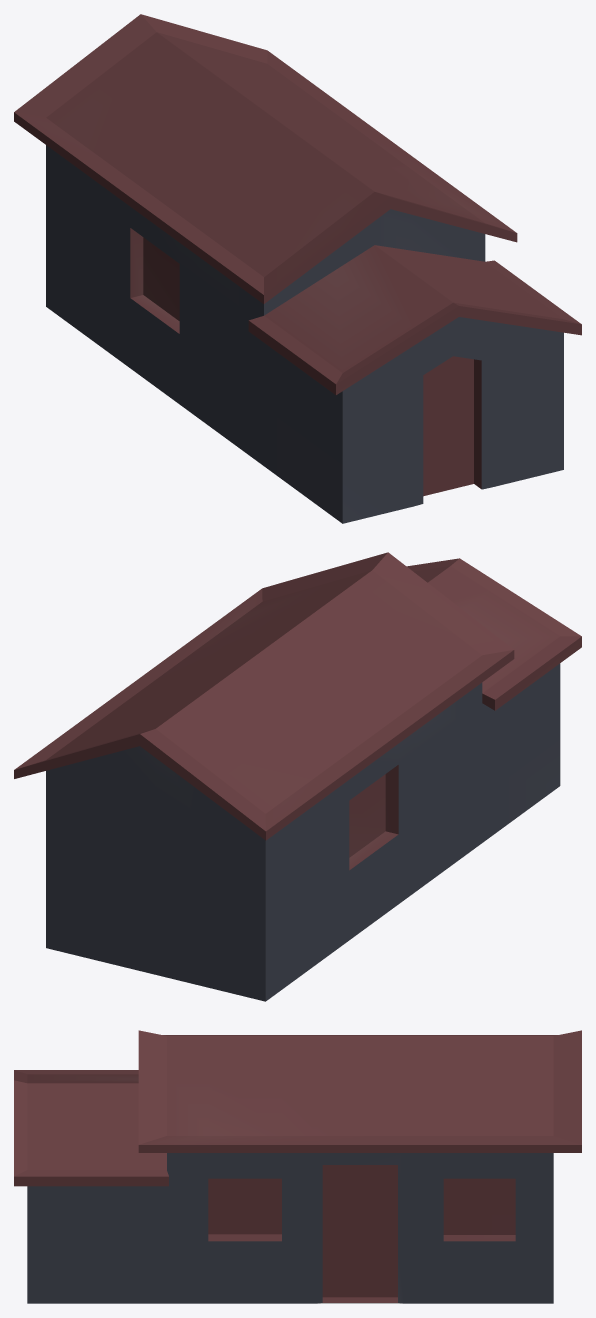
File: CasasPerifericas3.fbx
3 views of the same model, one above another, from view 1: azimuth 30°, elevation 25°; view 2: azimuth 150°, elevation 25°; view 3: azimuth 270°, elevation 25° (orthographic). The views are drawn at different scales.
Parts seen in each view (by area): view 1: Casa03_LOD0; view 2: Casa03_LOD0; view 3: Casa03_LOD0.
Part boxes in pixels (x1,y1,x2,y2): Casa03_LOD0: [14, 14, 581, 523]; Casa03_LOD0: [14, 552, 581, 1001]; Casa03_LOD0: [14, 1030, 581, 1303].
Size of what is drawn, in the model's own units: 317 by 304 by 694.
